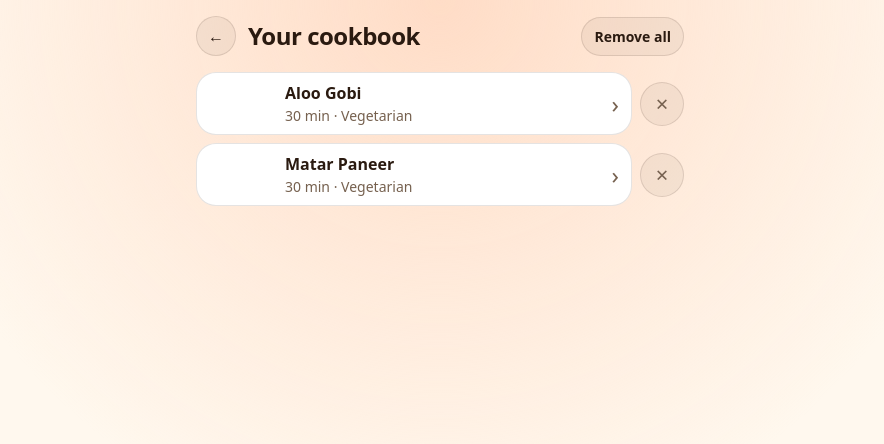
a recipe can be removed from the cookbook, and the removal undone
Click the button named "Remove Matar Paneer from your cookbook" at (662, 174), box x1=640 y1=152 x2=684 y2=196
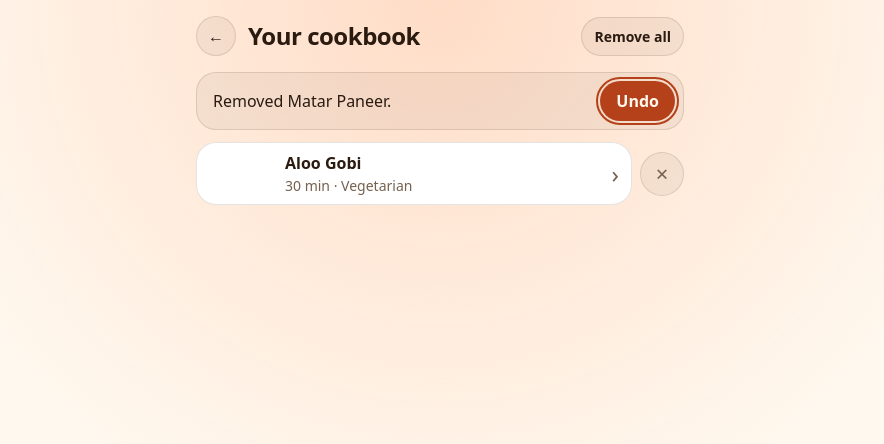
Now the message shows "Removed Matar Paneer.", box x1=213 y1=90 x2=391 y2=112
Click the button "Undo" at (638, 101), box x1=600 y1=81 x2=675 y2=121
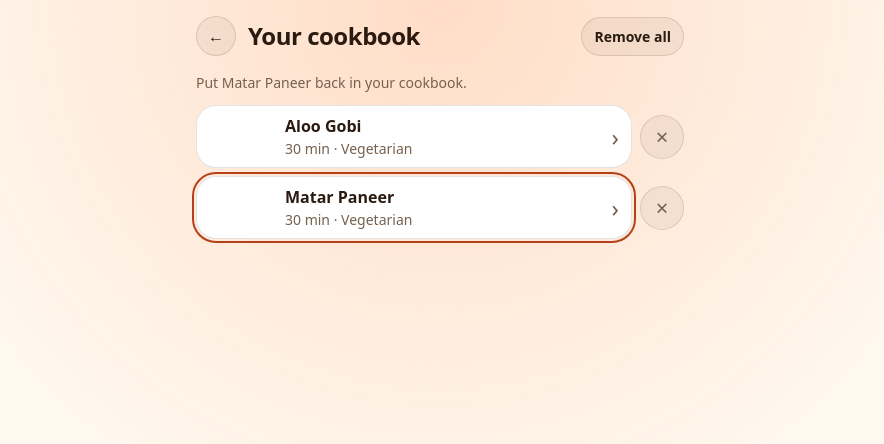
Now the button "Undo" is gone
Now the message reads "Put Matar Paneer back in your cookbook.", box x1=196 y1=73 x2=467 y2=92
